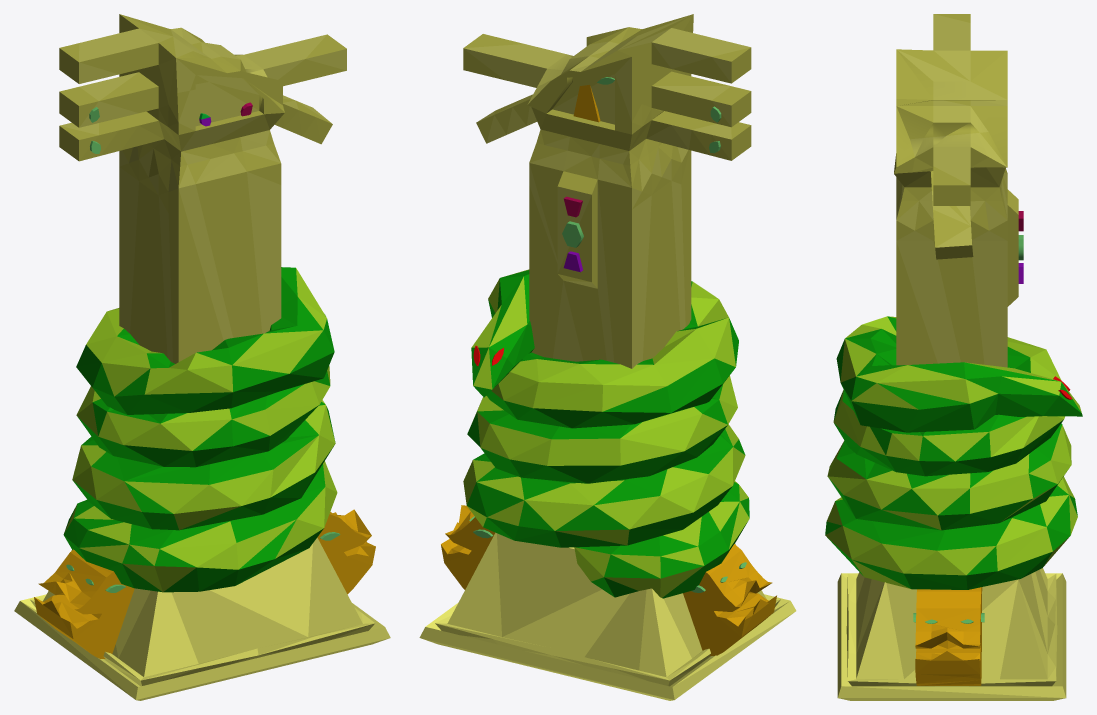
Rendered from torre_muisca_1.fbx.
3 renders of one model, left to right at view 1: azimuth 30°, elevation 25°; view 2: azimuth 150°, elevation 25°; view 3: azimuth 270°, elevation 25°, orthographic. The views are drawn at different scales.
Visible parts, largest first — view 1: totem_muisca_primer_daño; view 2: totem_muisca_primer_daño; view 3: totem_muisca_primer_daño.
Boxes of the visible parts, <box> form: totem_muisca_primer_daño: <box>14,14,390,700</box>; totem_muisca_primer_daño: <box>419,14,796,700</box>; totem_muisca_primer_daño: <box>825,14,1082,700</box>.
Bounding box in the file's own units: 7.88 × 15 × 6.11.
